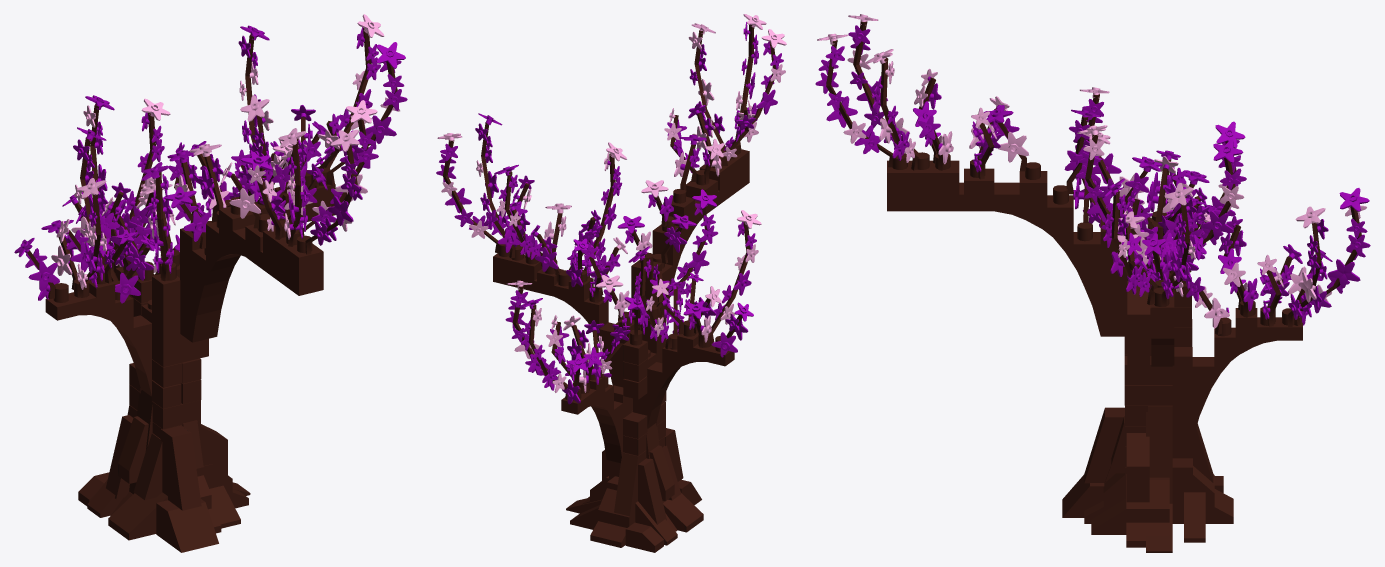
Rendered from flowertree.FBX.
3 views of the same model, side by side, from view 1: azimuth 30°, elevation 25°; view 2: azimuth 150°, elevation 25°; view 3: azimuth 270°, elevation 25° (orthographic). The views are drawn at different scales.
Visible parts, largest first — view 1: Box017; view 2: Box017; view 3: Box017.
Boxes of the visible parts, <box> form: Box017: <box>14,14,407,552</box>; Box017: <box>436,14,786,552</box>; Box017: <box>815,14,1370,552</box>.
Bounding box in the file's own units: 139 × 174 × 178.
